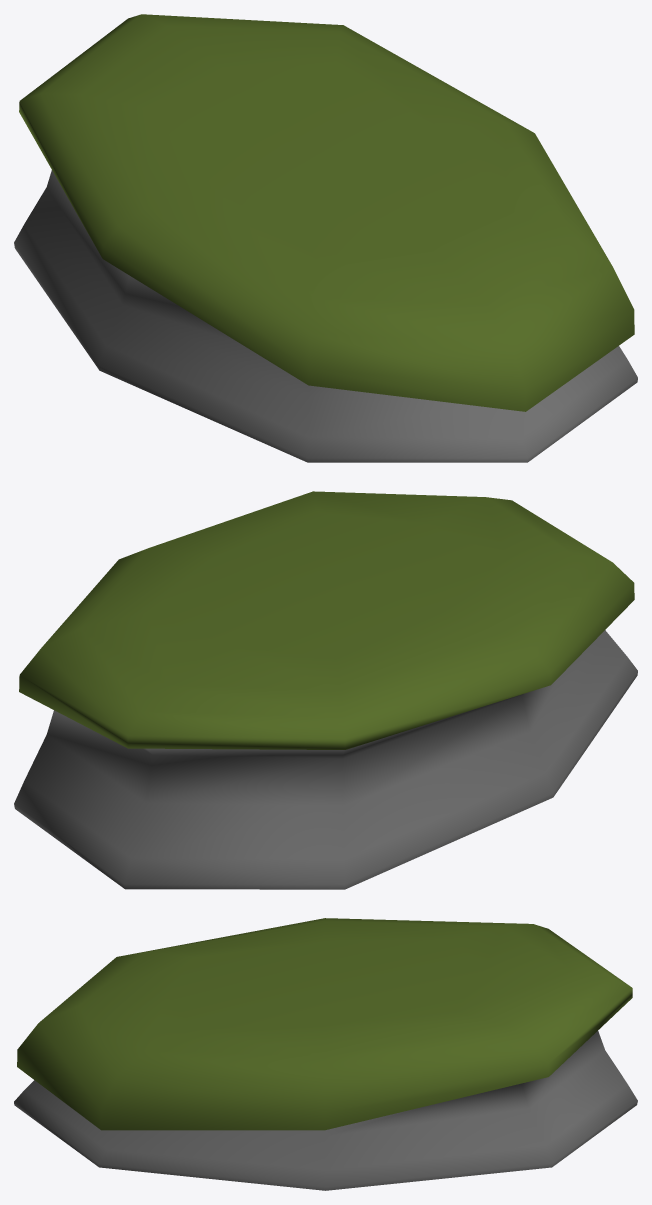
Rendered from Roche_Petit.fbx.
The picture shows the model from 3 angles, top to bottom: view 1: azimuth 30°, elevation 25°; view 2: azimuth 150°, elevation 25°; view 3: azimuth 270°, elevation 25°; orthographic projection. The views are drawn at different scales.
Parts seen in each view (by area): view 1: Cube; view 2: Cube; view 3: Cube.
Boxes of the visible parts, x1,y1,x2,y2 form: Cube: [14, 14, 637, 462]; Cube: [14, 491, 637, 889]; Cube: [14, 918, 637, 1190].
Bounding box in the file's own units: 154 × 57.25 × 236.
